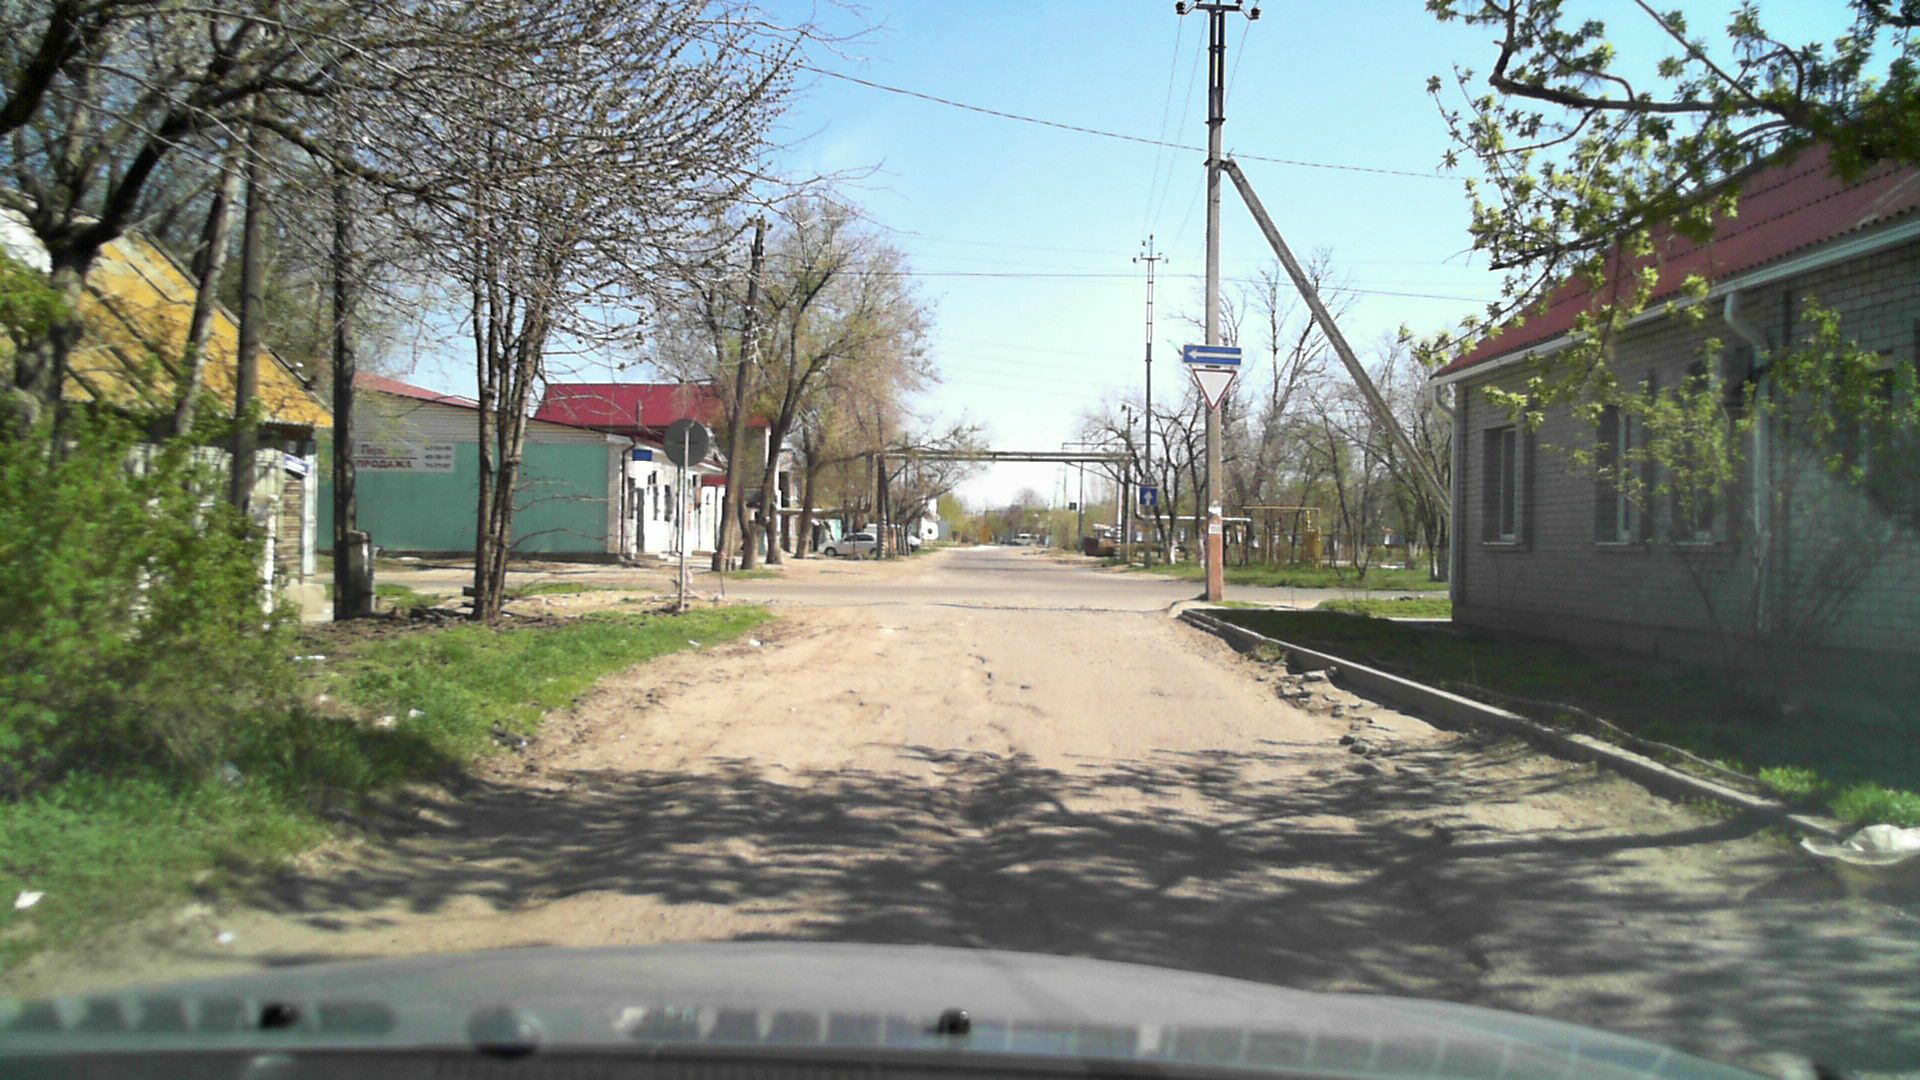One-Way Traffic: (1182, 344, 1241, 365)
